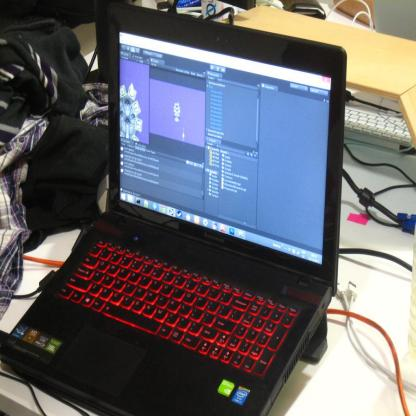board: (35, 6, 346, 416)
